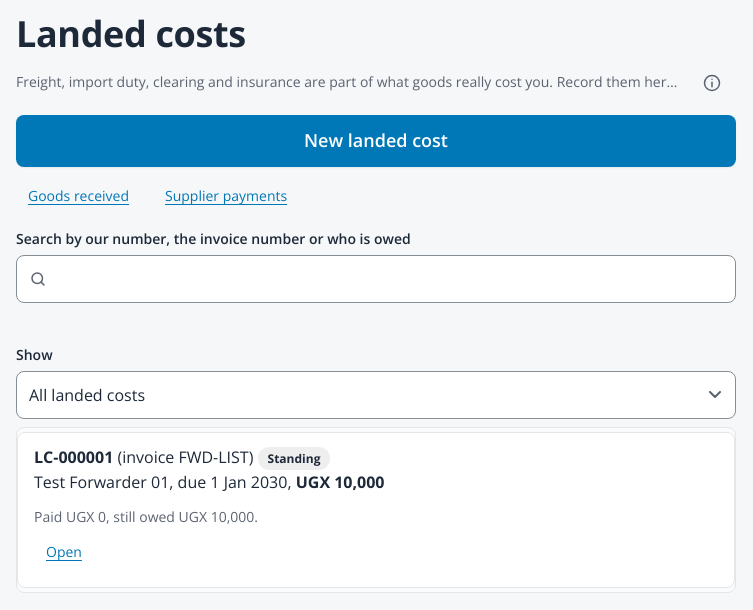
the landed costs pages › lists landed costs with what is paid and owed, found by search
In the search field labelled "Search by our number, the invoice number or who is owed": (376, 279) [16,255,736,303], type "nothing like this"
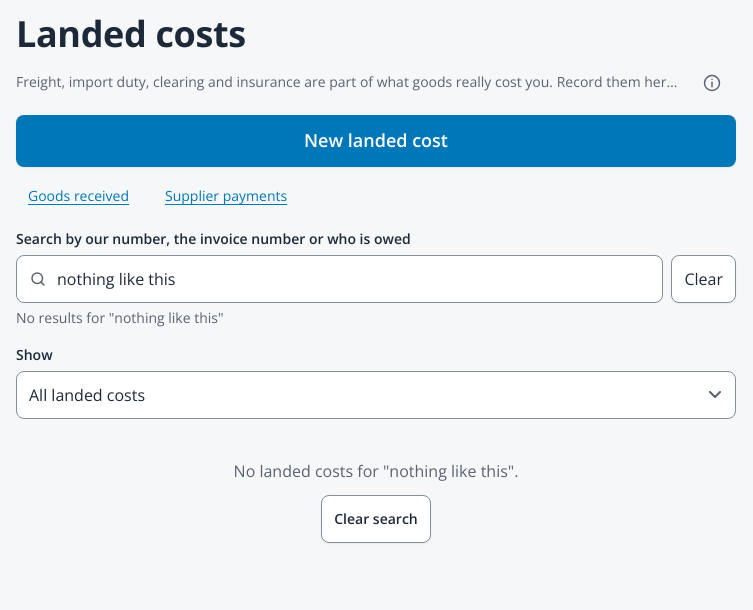
Expected: the text "No landed costs for \"nothing like this\"." is shown, [234,460,518,482]
